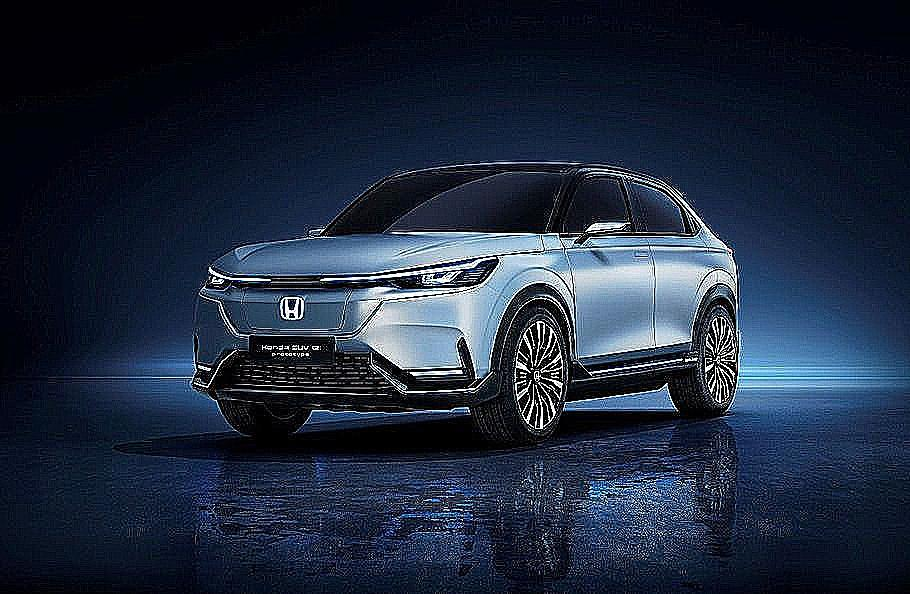Car hood: (214, 230, 560, 283)
Fender - -F-L-: (460, 240, 580, 348)
Fender - -R-L-: (682, 209, 740, 338)
Front bumper: (188, 281, 511, 413)
Headlight - -L-: (381, 254, 503, 299)
Headlight - -R-: (197, 266, 227, 292)
Passenger-s door - -F-L-: (551, 151, 660, 402)
Passenger-s door - -R-L-: (612, 158, 719, 392)
Side bumper - -L-: (558, 335, 702, 410)
Side mirror - -L-: (566, 211, 630, 254)
